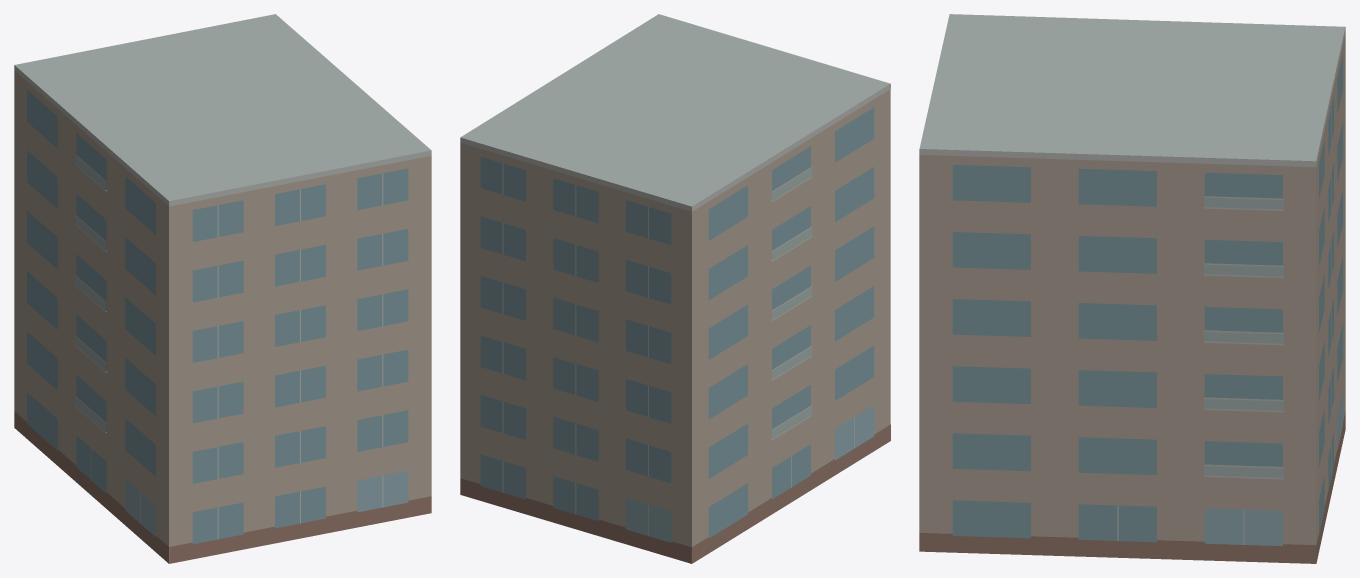
The model's file is survey-upis-32869590.glb.
The picture shows the model from 3 angles, left to right: view 1: azimuth 30°, elevation 25°; view 2: azimuth 150°, elevation 25°; view 3: azimuth 270°, elevation 25°; orthographic projection. The views are drawn at different scales.
Parts seen in each view (by area): view 1: survey-upis-32869590.tmp; view 2: survey-upis-32869590.tmp; view 3: survey-upis-32869590.tmp.
Part boxes in pixels (box(x1,y1,x2,y2)): survey-upis-32869590.tmp: box(14, 14, 431, 563); survey-upis-32869590.tmp: box(460, 14, 890, 563); survey-upis-32869590.tmp: box(919, 14, 1345, 563).
Size of the model in its own units: 12.95 by 16.5 by 15.84.
